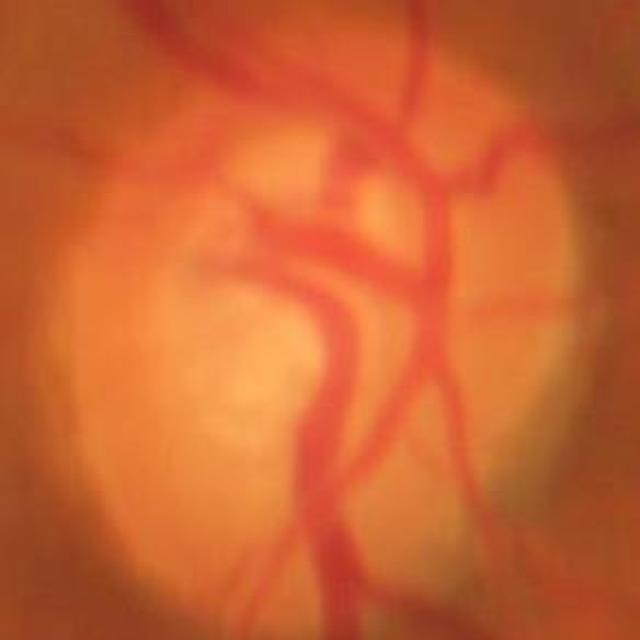OC: (177, 131, 417, 454)
OD: (67, 56, 575, 640)
